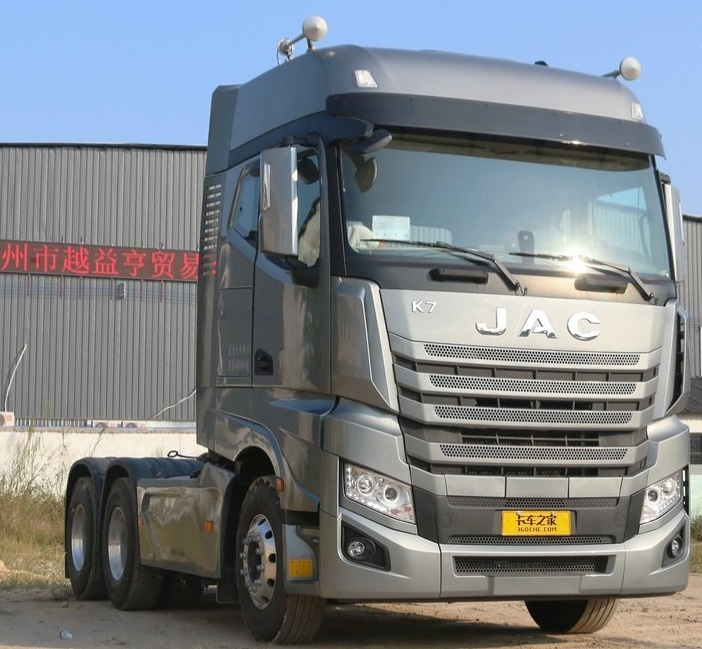heavy truck: (51, 20, 702, 648)
